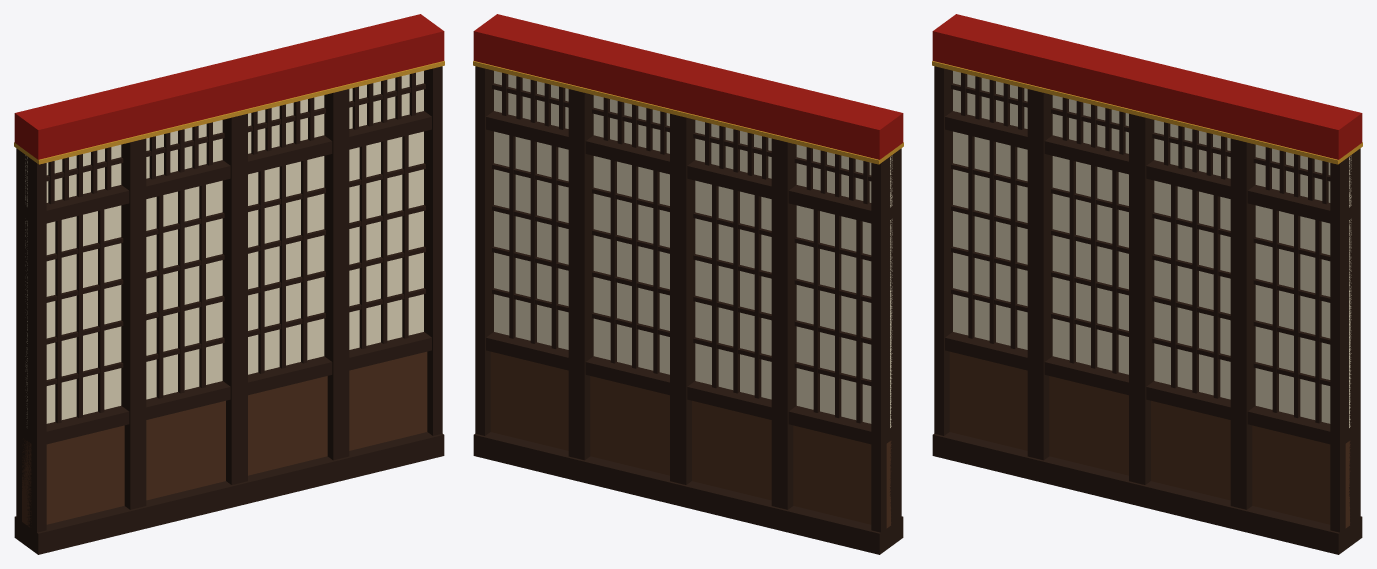
The model's file is SM_Bld_Shoji_Wall_01.fbx.
3 views of the same model, side by side, from view 1: azimuth 30°, elevation 25°; view 2: azimuth 150°, elevation 25°; view 3: azimuth 330°, elevation 25° (orthographic).
Visible parts, largest first — view 1: SM_Bld_Shoji_Wall_01; view 2: SM_Bld_Shoji_Wall_01; view 3: SM_Bld_Shoji_Wall_01.
Boxes of the visible parts, x1,y1,x2,y2 form: SM_Bld_Shoji_Wall_01: [14, 14, 444, 554]; SM_Bld_Shoji_Wall_01: [473, 14, 903, 554]; SM_Bld_Shoji_Wall_01: [932, 14, 1362, 554].
Bounding box in the file's own units: 5 × 5 × 0.53.
2 materials, 2 textured.
